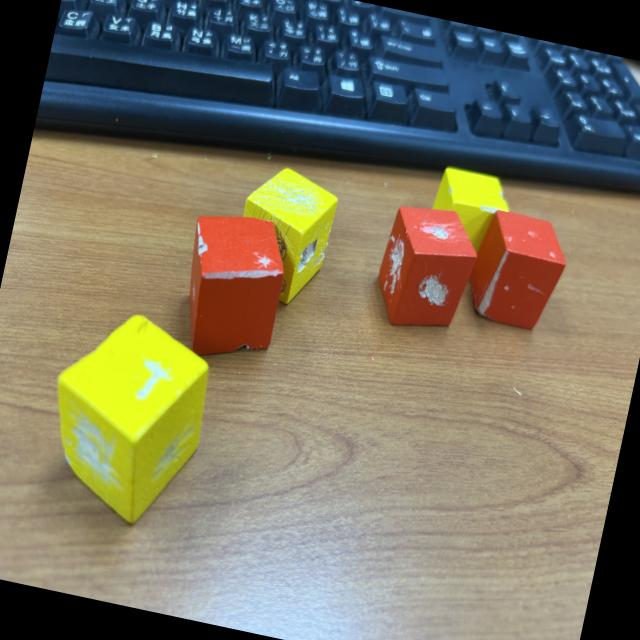broken: (30, 299, 224, 536), (168, 204, 296, 369), (224, 159, 344, 311), (367, 198, 485, 340), (459, 206, 574, 336), (421, 162, 516, 272)
